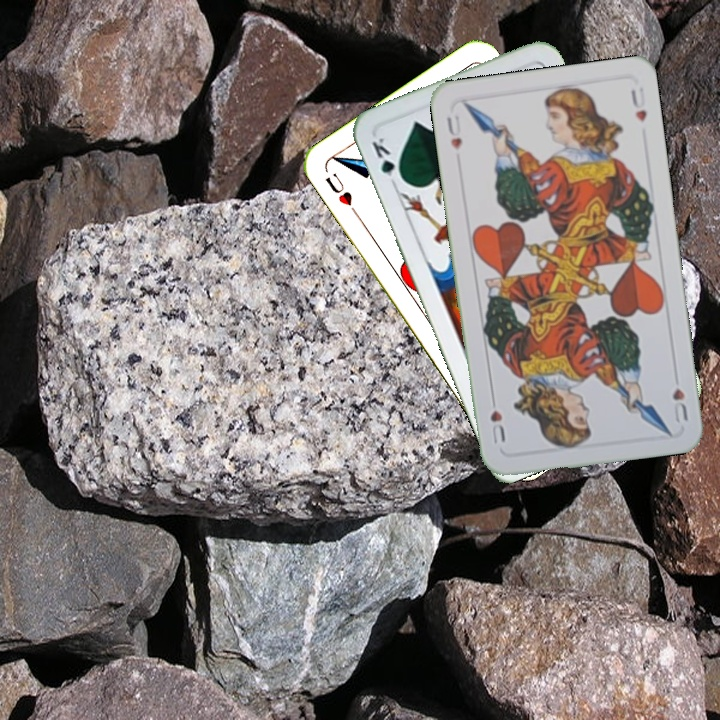GK: (368, 133, 406, 189)
HU: (321, 169, 361, 218), (442, 111, 465, 152), (668, 384, 691, 425)
